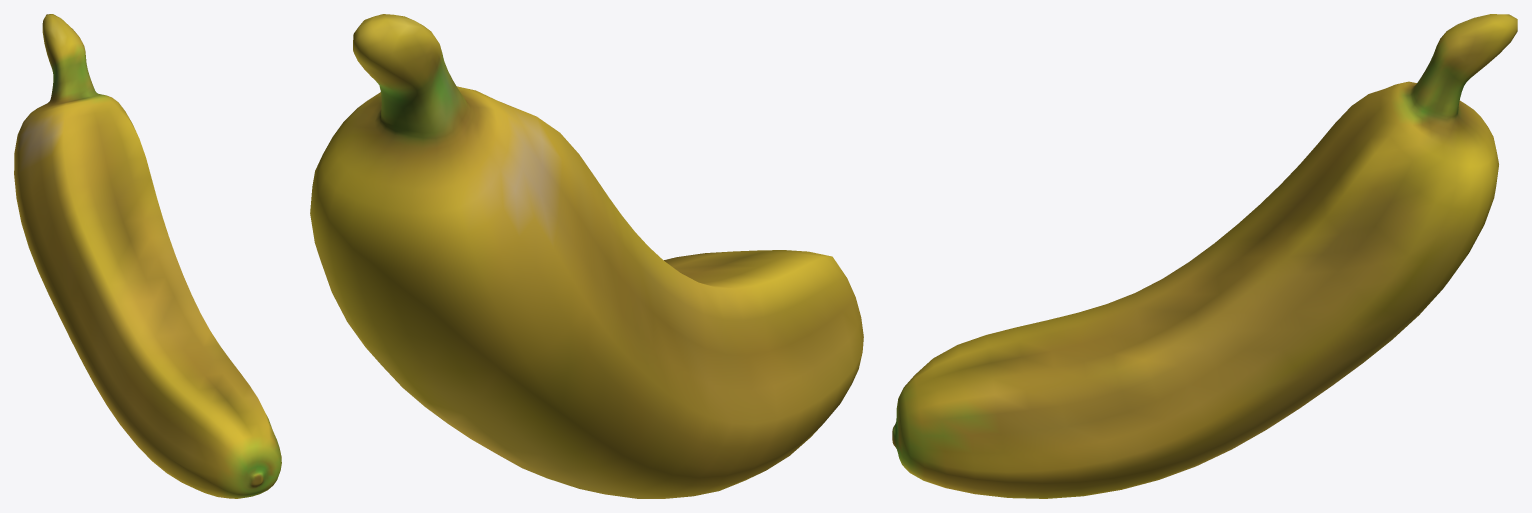
The model's file is point.glb.
3 renders of one model, left to right at view 1: azimuth 30°, elevation 25°; view 2: azimuth 150°, elevation 25°; view 3: azimuth 270°, elevation 25°, orthographic. The views are drawn at different scales.
Visible parts, largest first — view 1: Cube_0; view 2: Cube_0; view 3: Cube_0.
Part boxes in pixels (x1,y1,x2,y2): Cube_0: [14, 14, 281, 498]; Cube_0: [310, 14, 863, 498]; Cube_0: [892, 14, 1517, 498].
Size of the model in its own units: 2.92 by 7.69 by 9.11.
